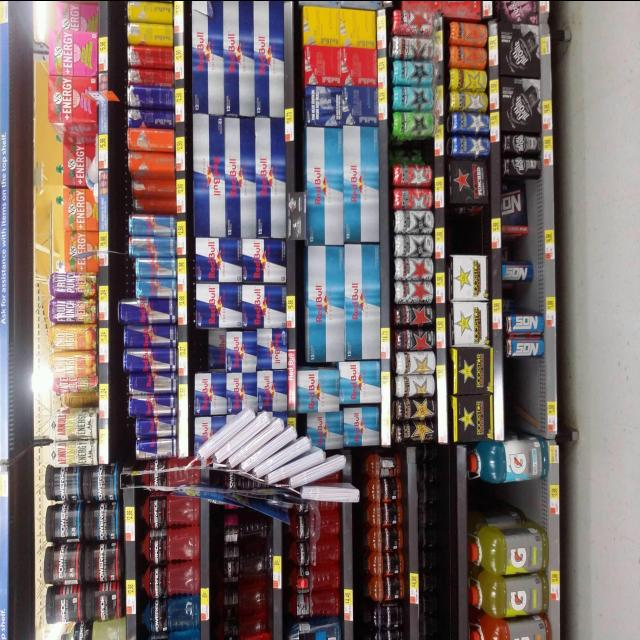empty_space: (423, 459, 453, 629), (474, 477, 542, 515), (513, 363, 540, 429), (452, 213, 488, 247)
